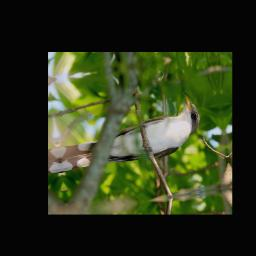Cuckoo: (53, 89, 206, 176)
